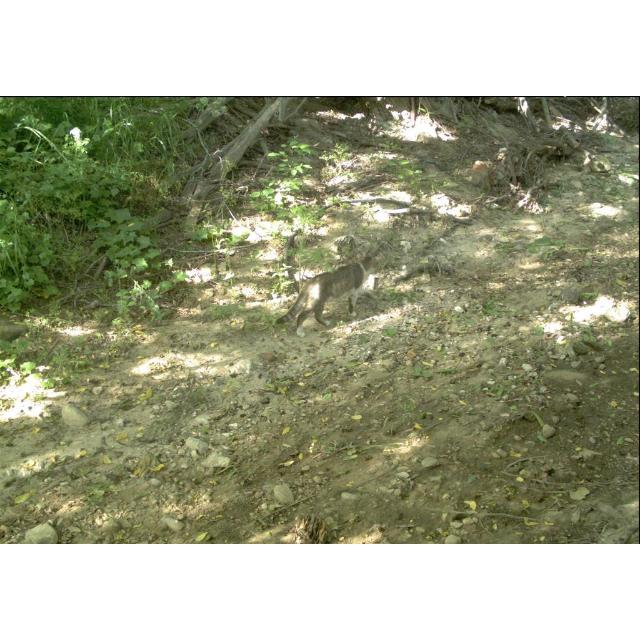animals: (275, 255, 385, 342)
